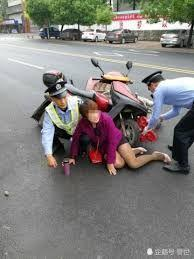Fall-Detected: (64, 96, 173, 177)
